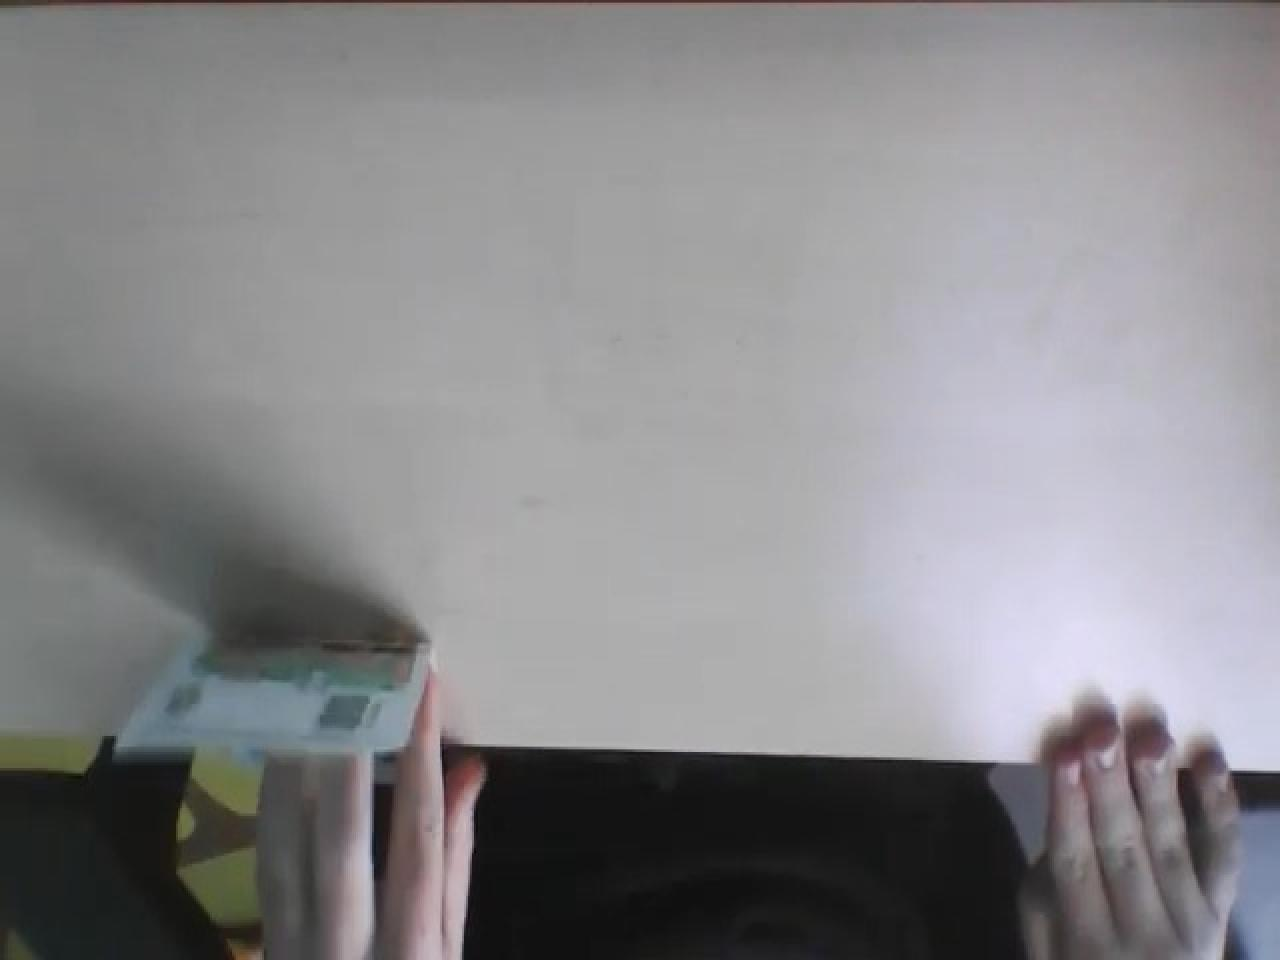100leva: (116, 626, 436, 762)
